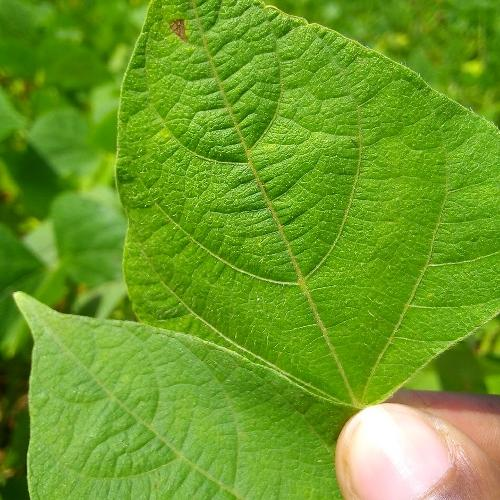hawar: (160, 8, 192, 53)
